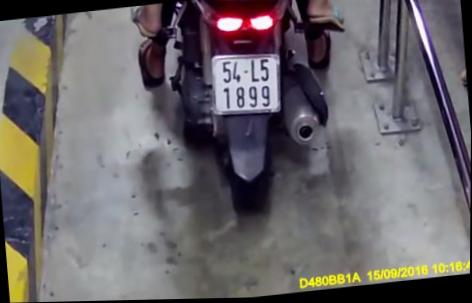LP: (206, 47, 287, 121)
